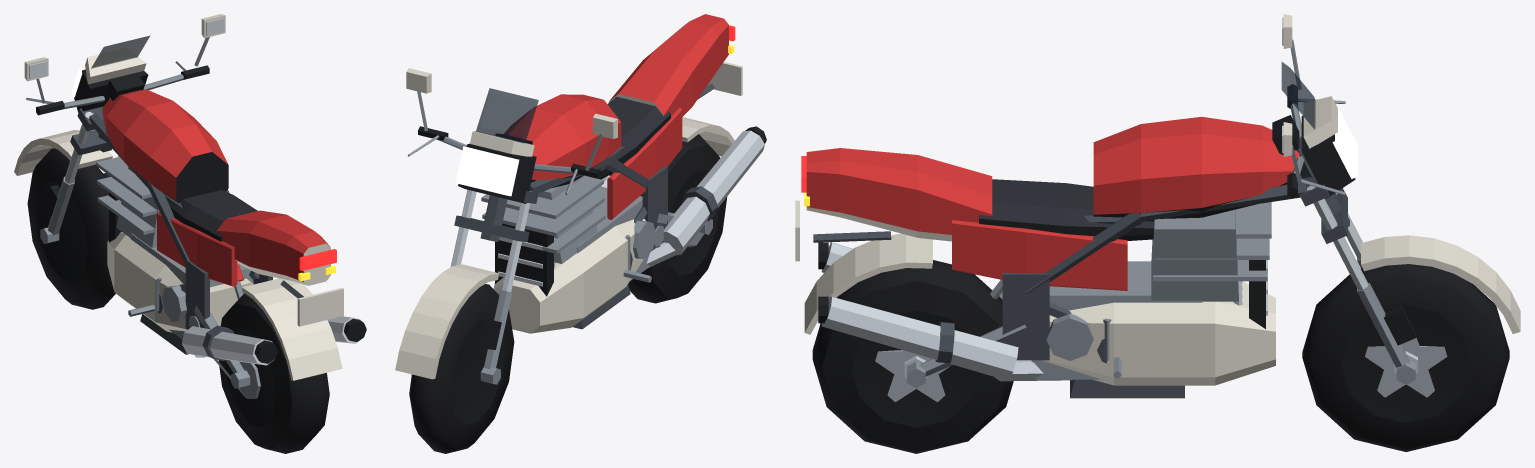
File: motorcycle.glb
The picture shows the model from 3 angles, left to right: view 1: azimuth 30°, elevation 25°; view 2: azimuth 150°, elevation 25°; view 3: azimuth 270°, elevation 25°; orthographic projection. The views are drawn at different scales.
Parts seen in each view (by area): view 1: Body, Fork, Wheel_F, Wheel_R; view 2: Body, Fork, Wheel_F, Wheel_R; view 3: Body, Wheel_F, Wheel_R, Fork.
Boxes of the visible parts, x1=… form: Body: x1=89, y1=89, x2=366, y2=398; Fork: x1=14, y1=14, x2=225, y2=243; Wheel_F: x1=27, y1=148, x2=115, y2=309; Wheel_R: x1=218, y1=293, x2=329, y2=453; Body: x1=480, y1=14, x2=766, y2=333; Fork: x1=395, y1=68, x2=617, y2=384; Wheel_F: x1=409, y1=284, x2=514, y2=453; Wheel_R: x1=628, y1=134, x2=727, y2=303; Body: x1=795, y1=116, x2=1349, y2=398; Wheel_F: x1=1302, y1=264, x2=1509, y2=451; Wheel_R: x1=812, y1=260, x2=1013, y2=453; Fork: x1=1272, y1=14, x2=1520, y2=384.
Size of the model in its own units: 0.848 by 1.22 by 2.15.
